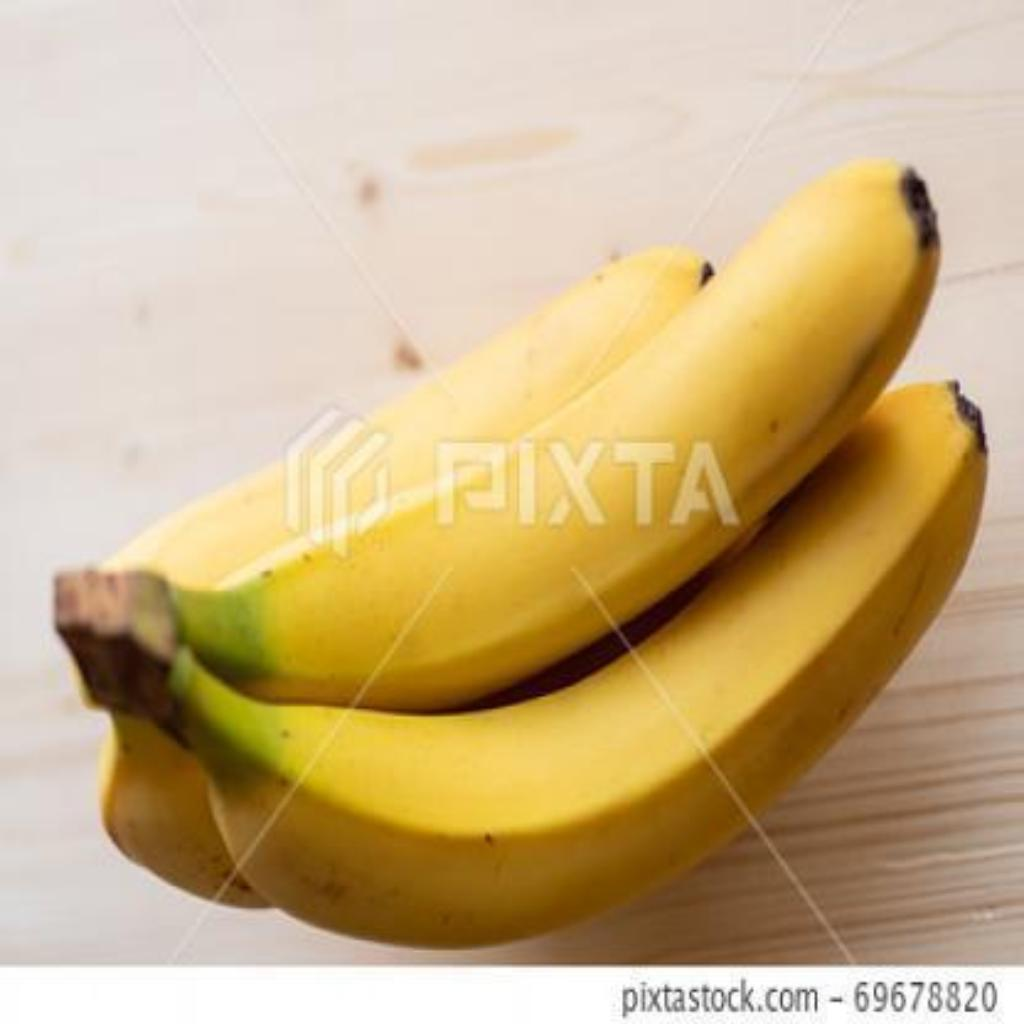banana: (108, 158, 943, 716), (226, 384, 990, 948)
